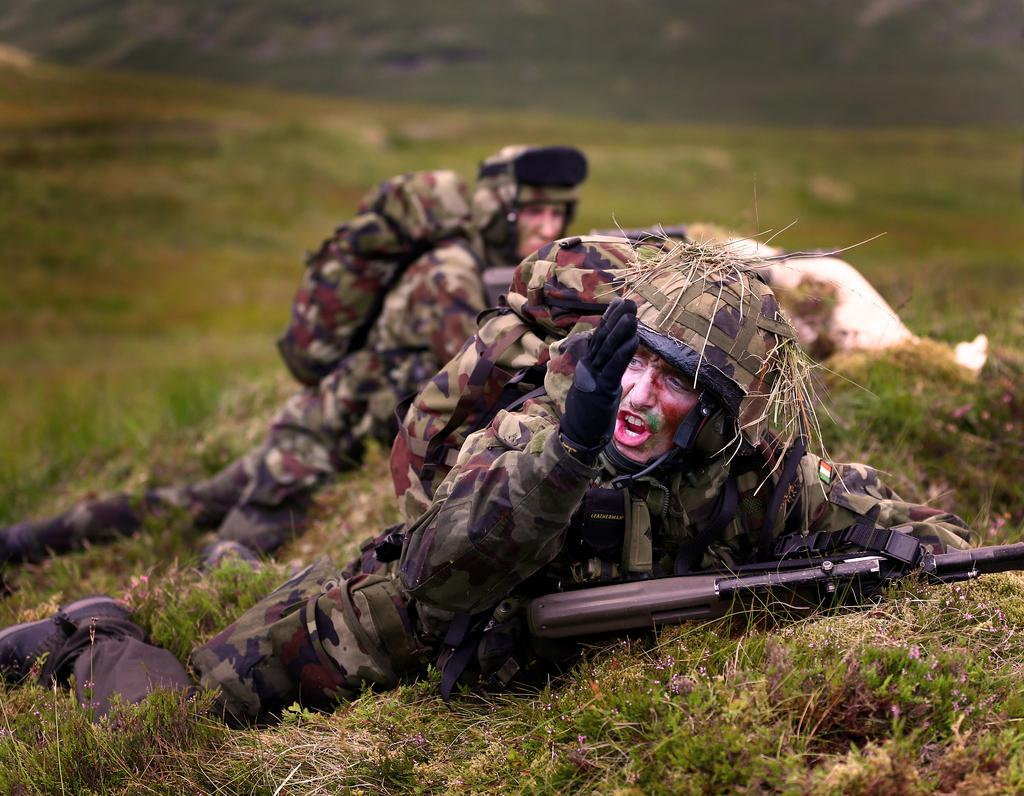Rifle: (523, 520, 1023, 643)
